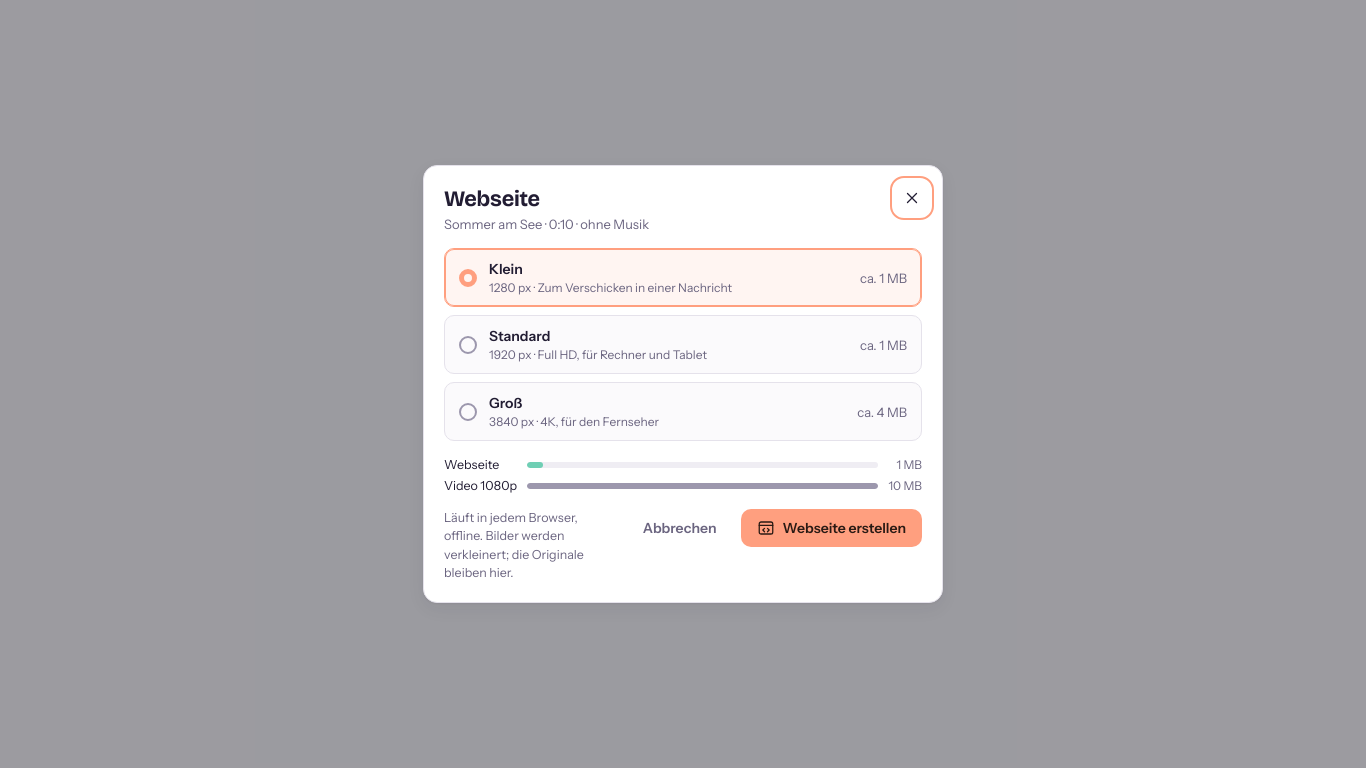
Test case: the web page sheet after a failure › says it in a sentence, keeps the raw error behind Show details, and Try again offers the sizes
Click the button "Webseite erstellen" at point(831, 528), box 741,509 -> 922,547
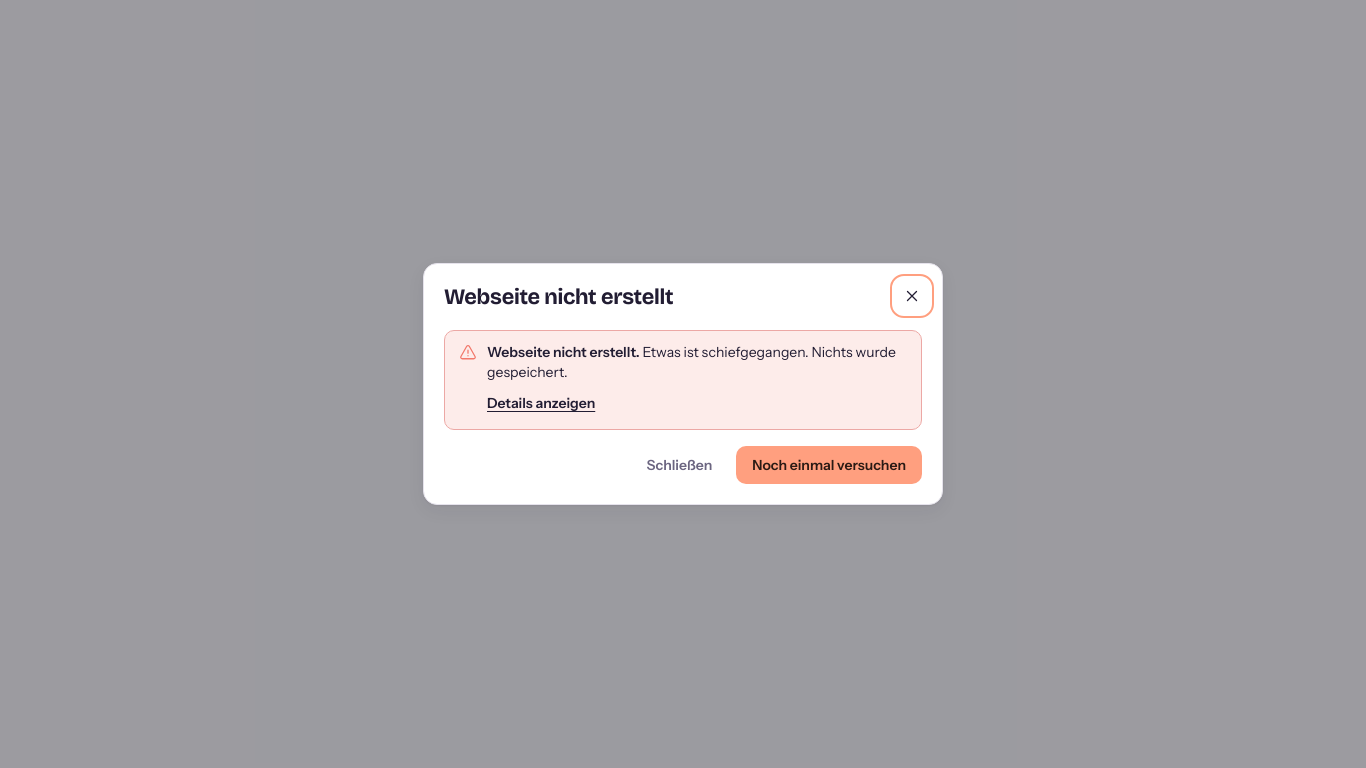
Expected: the text "picture 2 could not be read: ENOENT" is not shown
Expected: the text "Webseite nicht erstellt." is shown, 487,343 -> 640,361
Click the button "Details anzeigen" at point(541, 403), box 487,388 -> 595,418
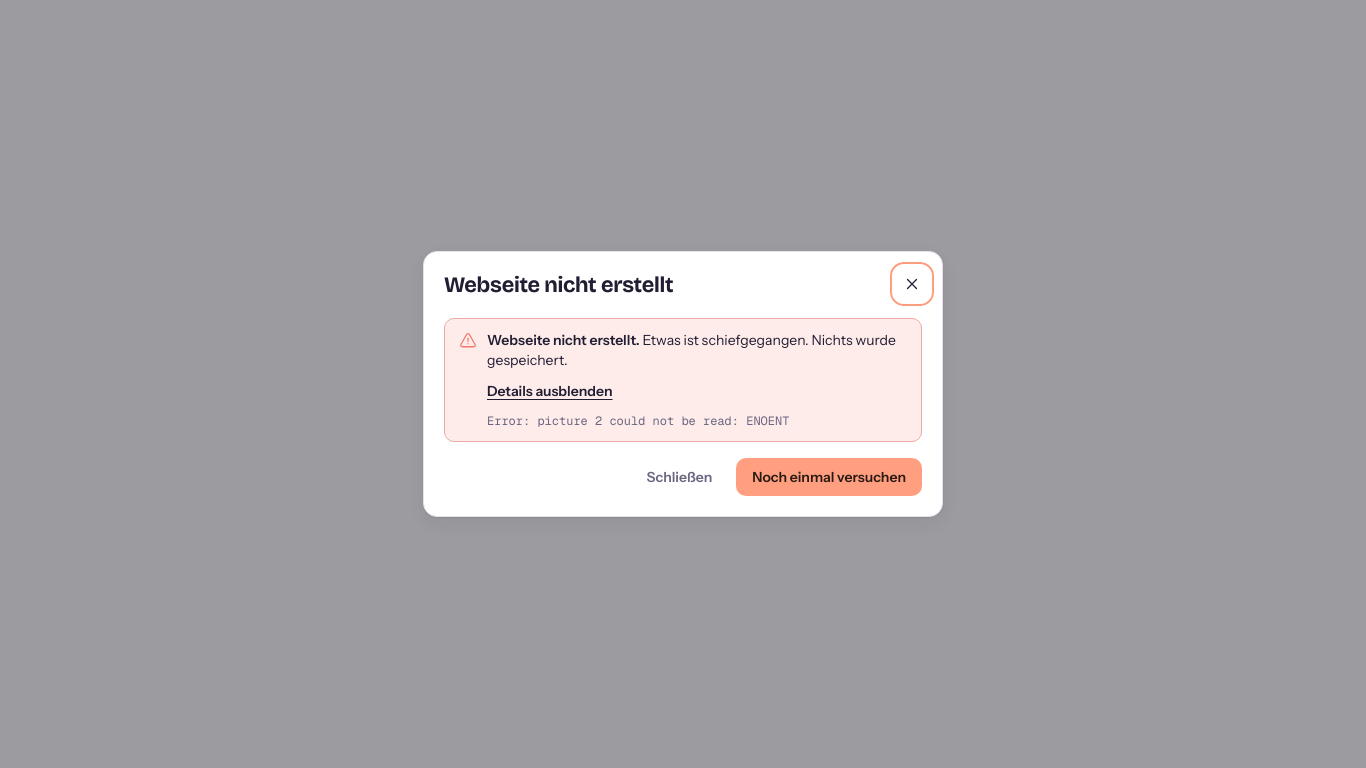
Click the button "Noch einmal versuchen" at point(829, 477), box 736,458 -> 922,496
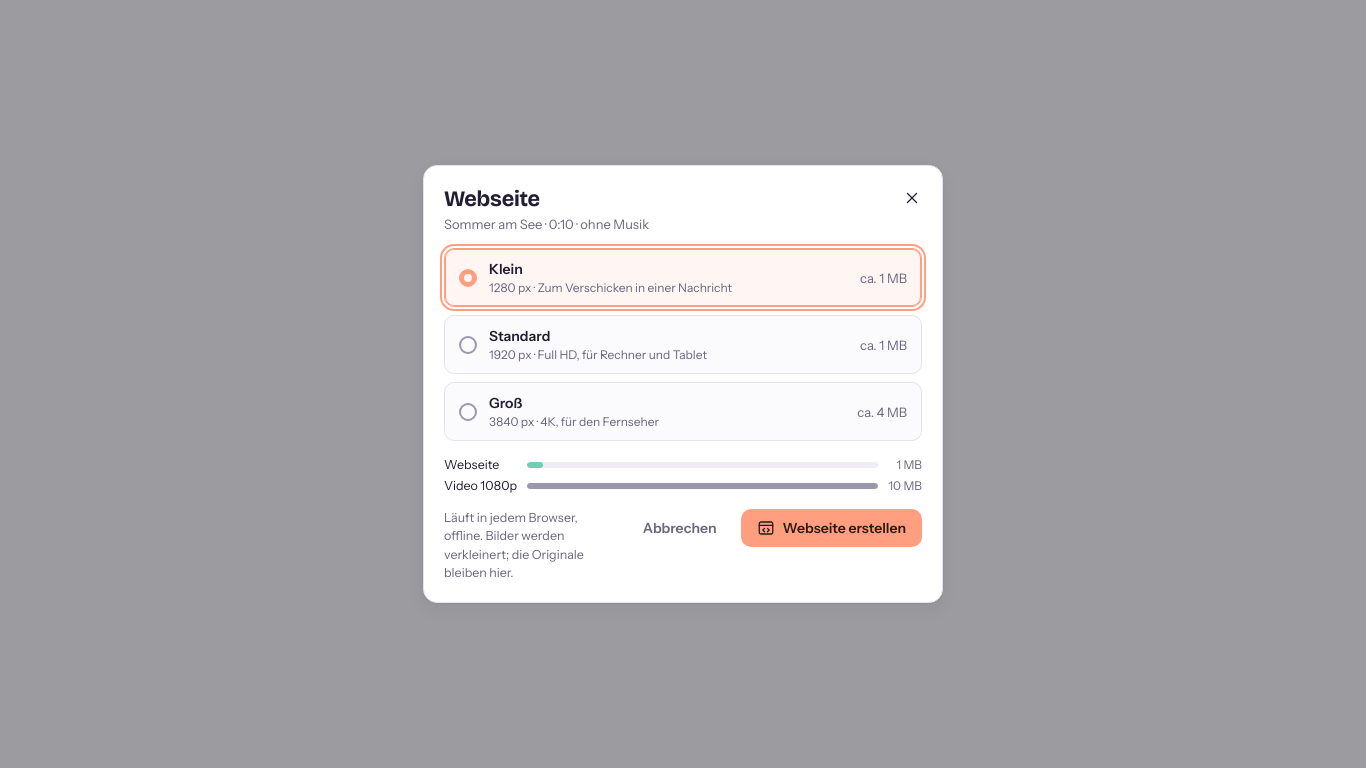
Expected: the text "picture 2 could not be read: ENOENT" is gone
